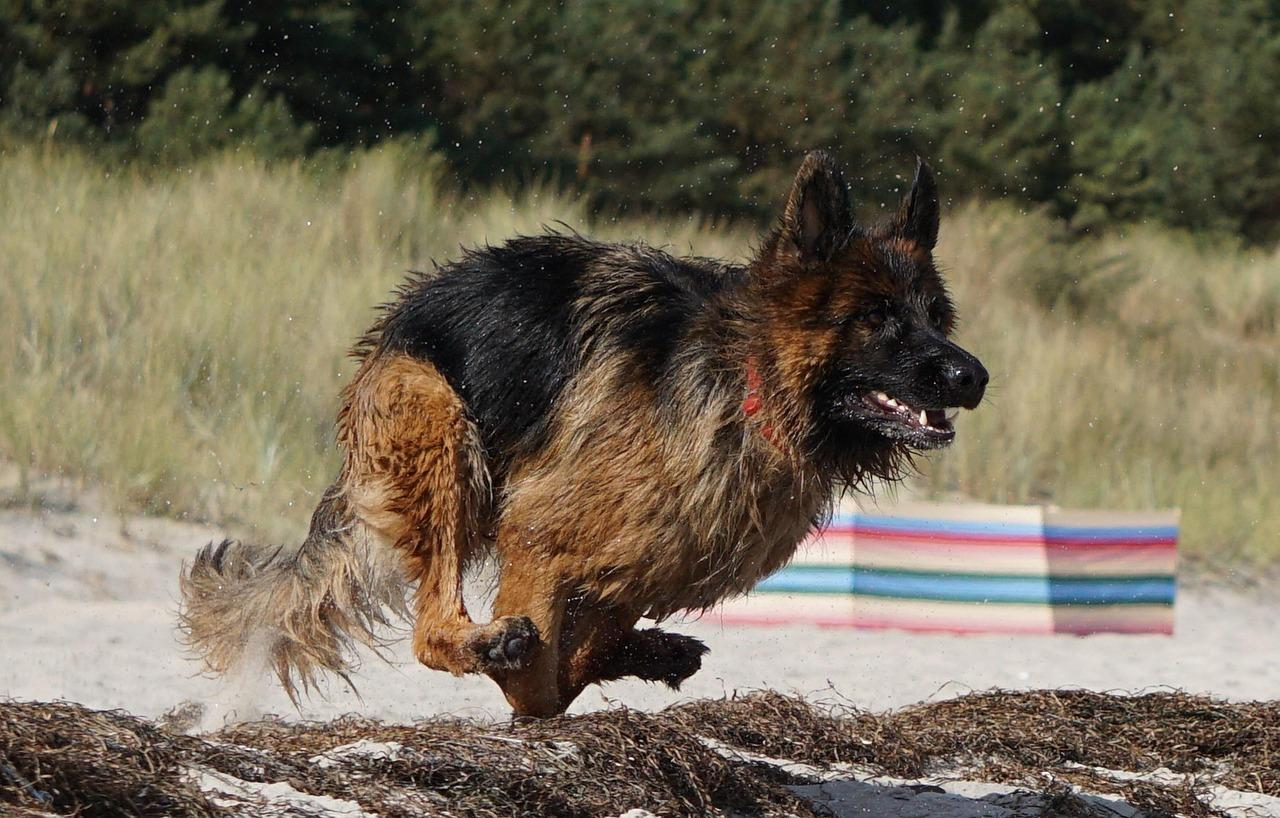german_shepherd: (751, 179, 1019, 498)
